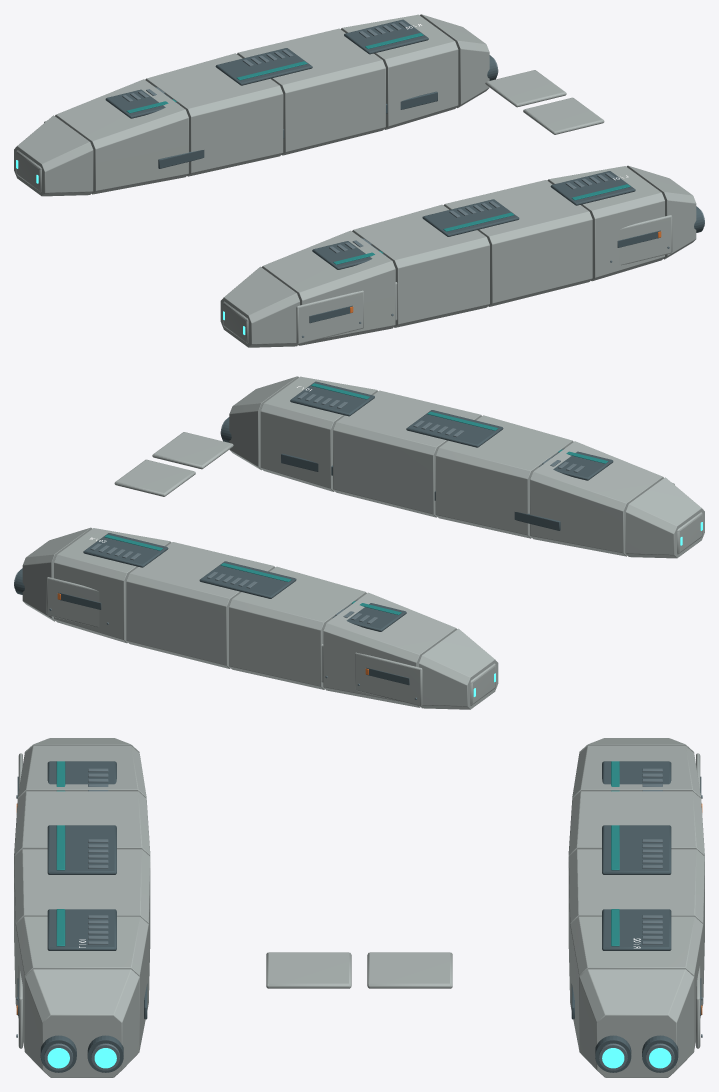
File: SM_Mech_ForkArmor.fbx
The picture shows the model from 3 angles, top to bottom: view 1: azimuth 30°, elevation 25°; view 2: azimuth 150°, elevation 25°; view 3: azimuth 270°, elevation 25°; orthographic projection. The views are drawn at different scales.
Parts seen in each view (by area): view 1: SM_Mech_ForkArmor; view 2: SM_Mech_ForkArmor; view 3: SM_Mech_ForkArmor.
Part boxes in pixels (x1,y1,x2,y2): SM_Mech_ForkArmor: (14, 14, 704, 347); SM_Mech_ForkArmor: (14, 376, 704, 709); SM_Mech_ForkArmor: (14, 738, 704, 1077).
Bounding box in the file's own units: 1331 × 1296 × 209.
